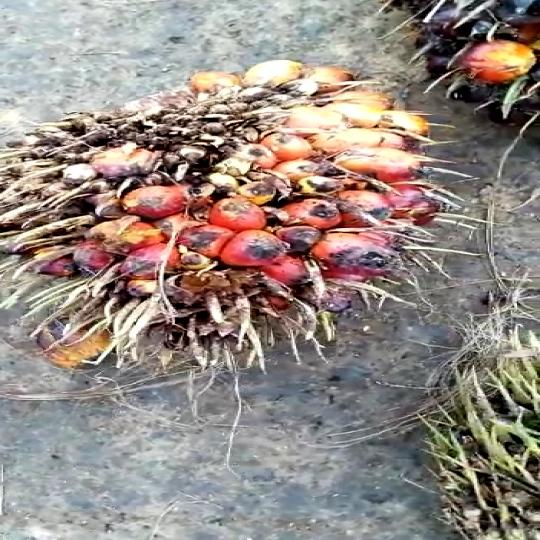masak: (0, 48, 450, 376)
